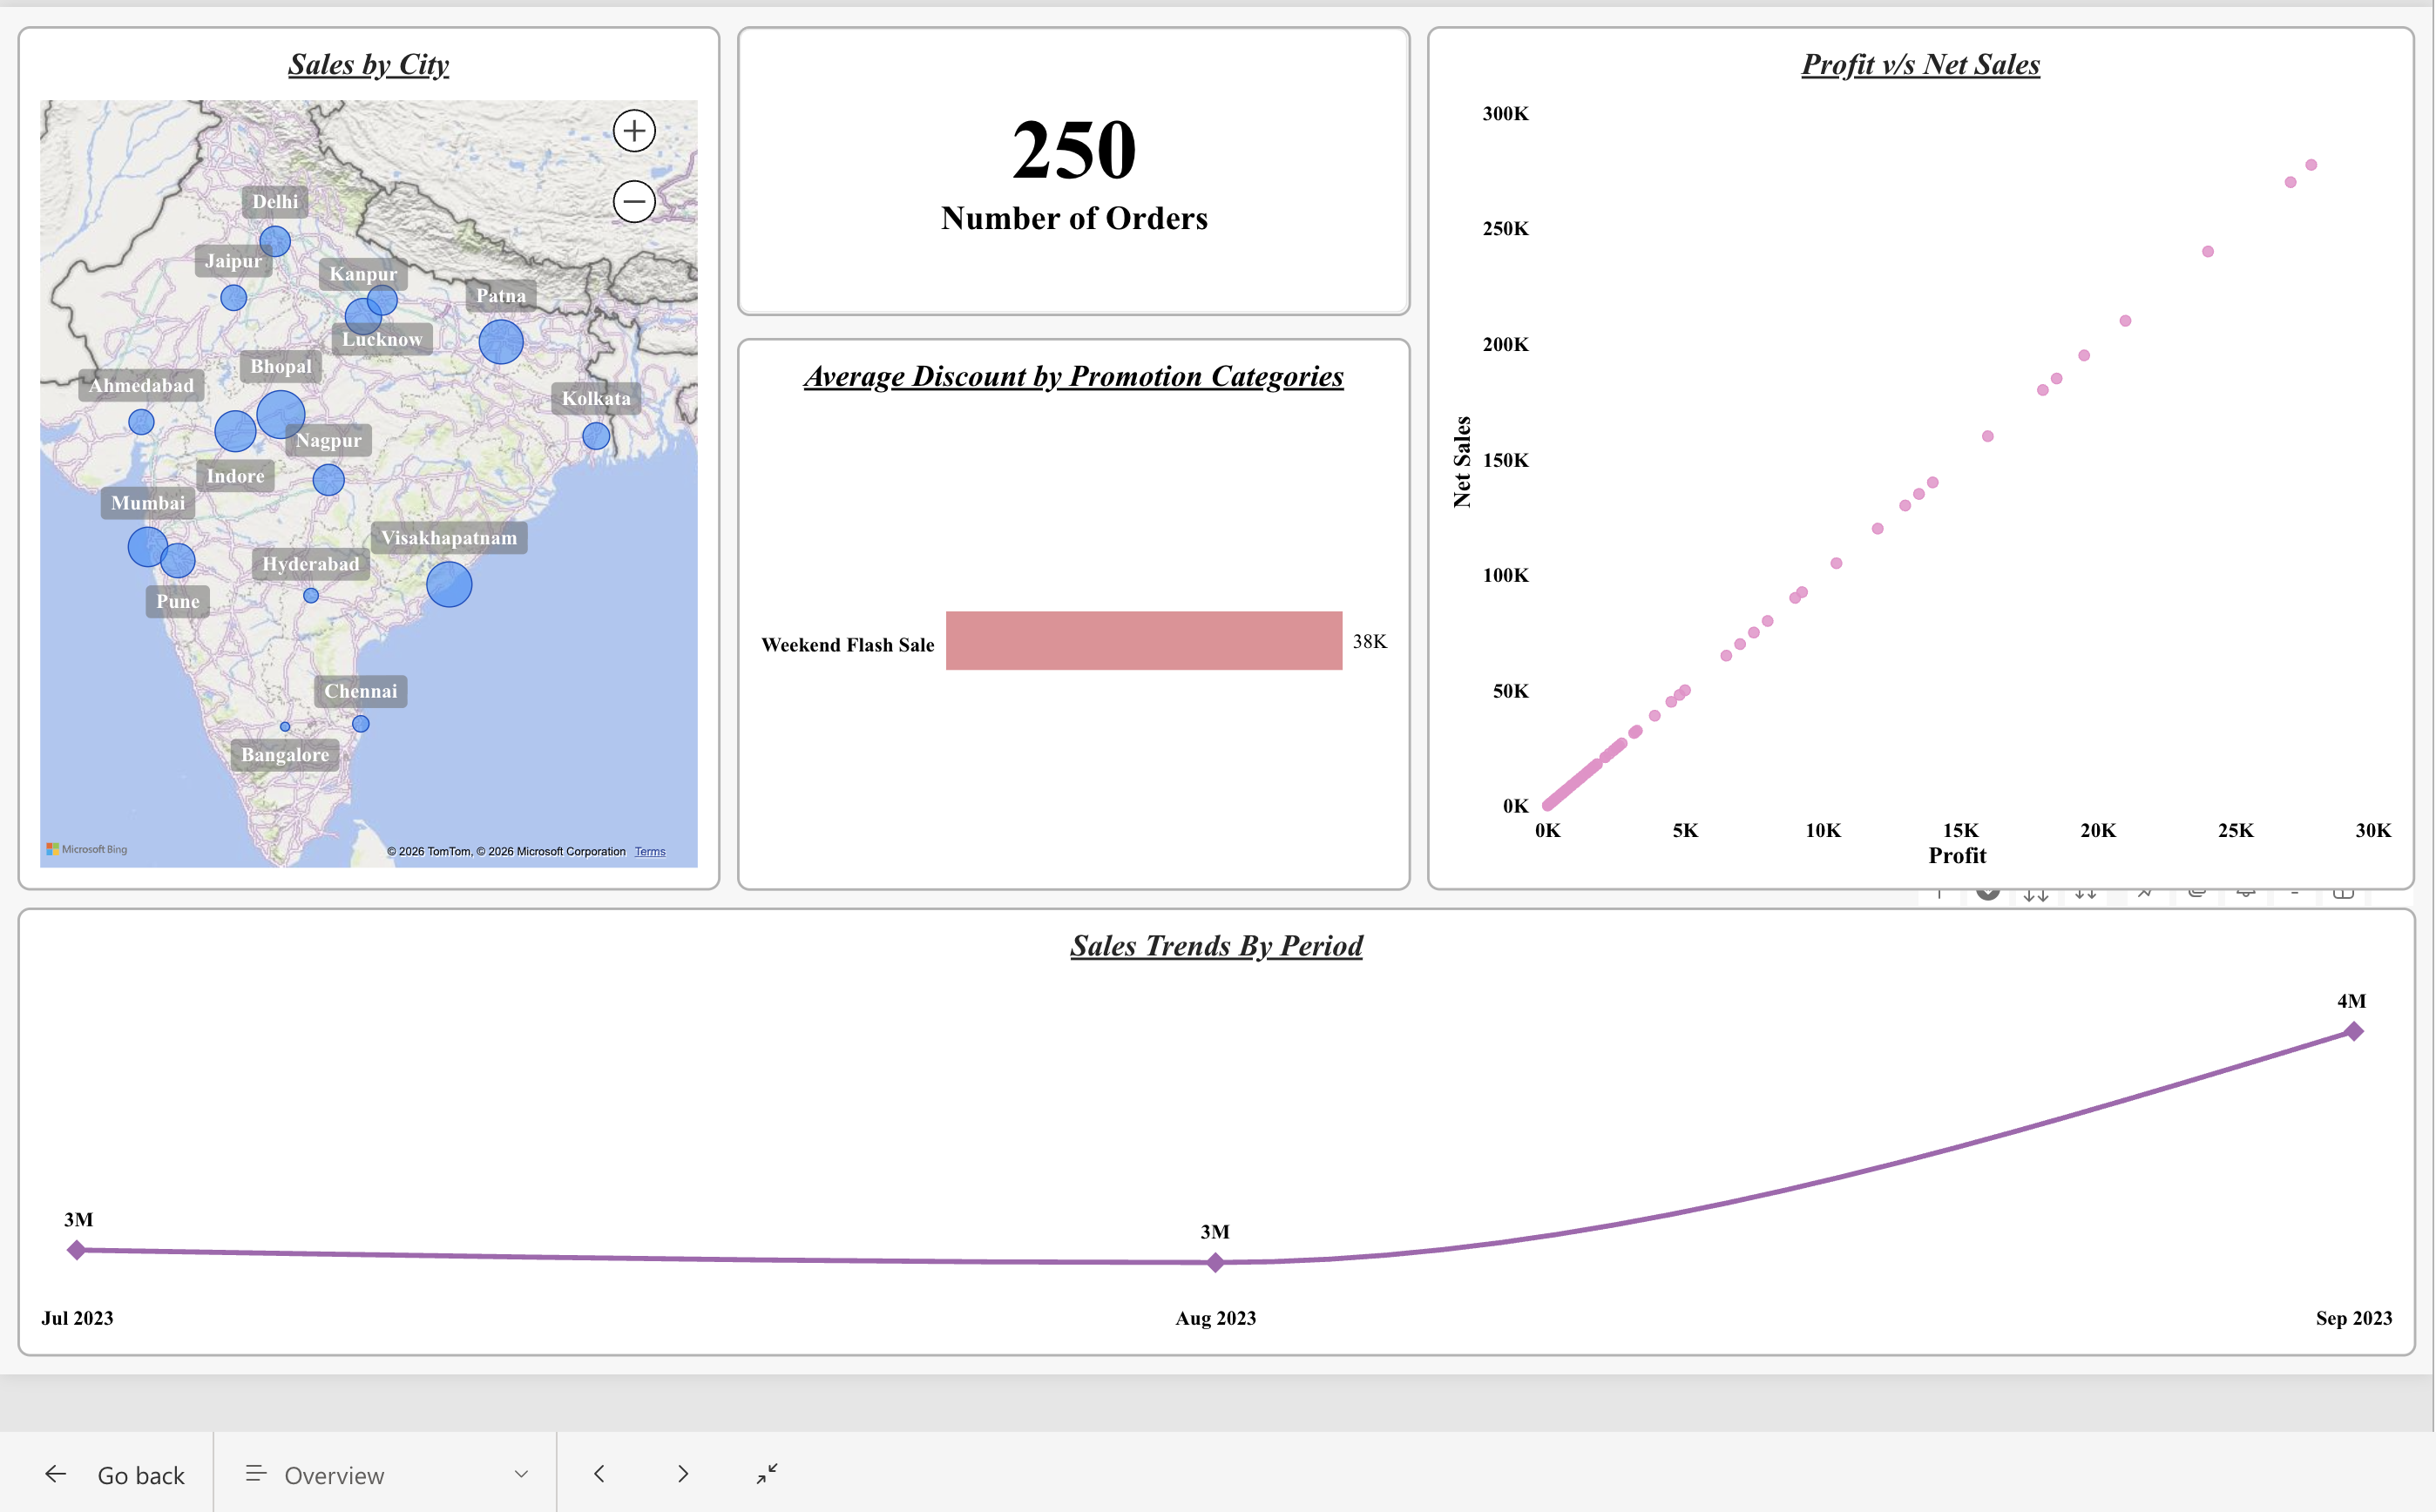

What the dashboard file says about the page in this screenshot:
{"tool":"powerbi","page":{"name":"Overview","canvas":[1920,1080],"ordinal":1},"visuals":[{"type":"lineChart","title":"Sales Trends By Period","fields":{"Category":["DateTable.Date.Variation.Date Hierarchy.Year","DateTable.Date.Variation.Date Hierarchy.Quarter","DateTable.Date.Variation.Date Hierarchy.Month","DateTable.Date.Variation.Date Hierarchy.Day"],"Y":["Sum(Fact Table.Net Sales)"]},"box":[13.3,711.2,1893.3,354.6],"z":0},{"type":"scatterChart","title":"Profit v/s Net Sales","fields":{"X":["Fact Table.Profit"],"Y":["Fact Table.Net Sales"]},"box":[1126.8,15.3,779.8,682.6],"z":1000},{"type":"barChart","title":"Average Discount by Promotion Categories","fields":{"Category":["Dim Promotion.Promotion Name"],"Y":["Avg(Fact Table.Discount Value)"]},"box":[581.5,261.2,532,436.6],"z":2000},{"type":"map","title":"Sales by City","fields":{"Category":["Dim Customers.City"],"Size":["Sum(Fact Table.Net Sales)"]},"box":[13.3,15.3,554.8,682.6],"z":3000},{"type":"cardVisual","fields":{"Data":["Count(Fact Table.Order ID)"]},"box":[581.5,15.3,532,228.8],"z":4000}]}

Visuals, with their boxes on the page's 1920x1080 design canvas (x1, y1, x2, y2). These are canvas units, not pixel positions in the 2436x1512 screenshot, which may show the page scaled, cropped or inside an application window:
"Sales Trends By Period" lineChart: crop(13, 711, 1907, 1066)
"Profit v/s Net Sales" scatterChart: crop(1127, 15, 1907, 698)
"Average Discount by Promotion Categories" barChart: crop(582, 261, 1114, 698)
"Sales by City" map: crop(13, 15, 568, 698)
cardVisual - Count(Fact Table.Order ID): crop(582, 15, 1114, 244)
